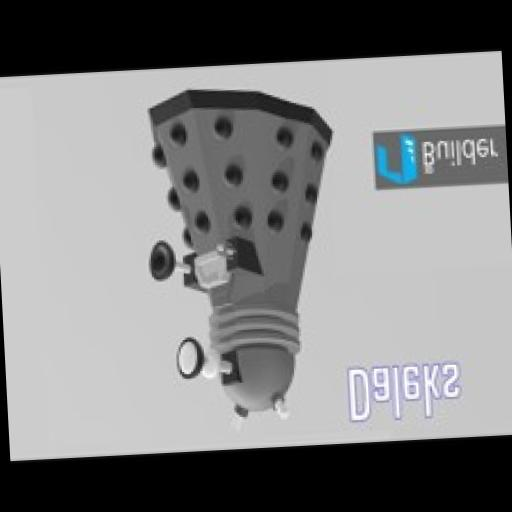dalek: (136, 80, 353, 438)
